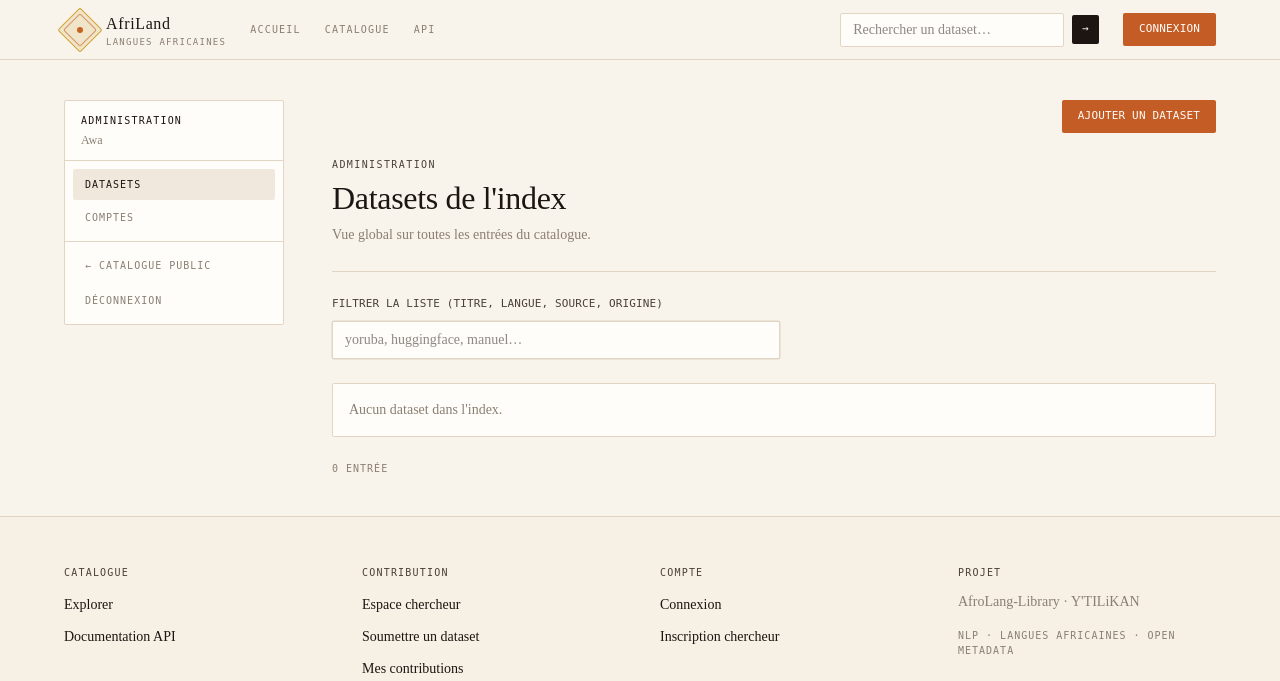
it: DatasetAdminPanel (Story 4.3) › ajoute un dataset sans inventer les métadonnées laissées vides
Step 1. Click the button "Ajouter un dataset" → (1139, 116), box [1062,100,1216,132]
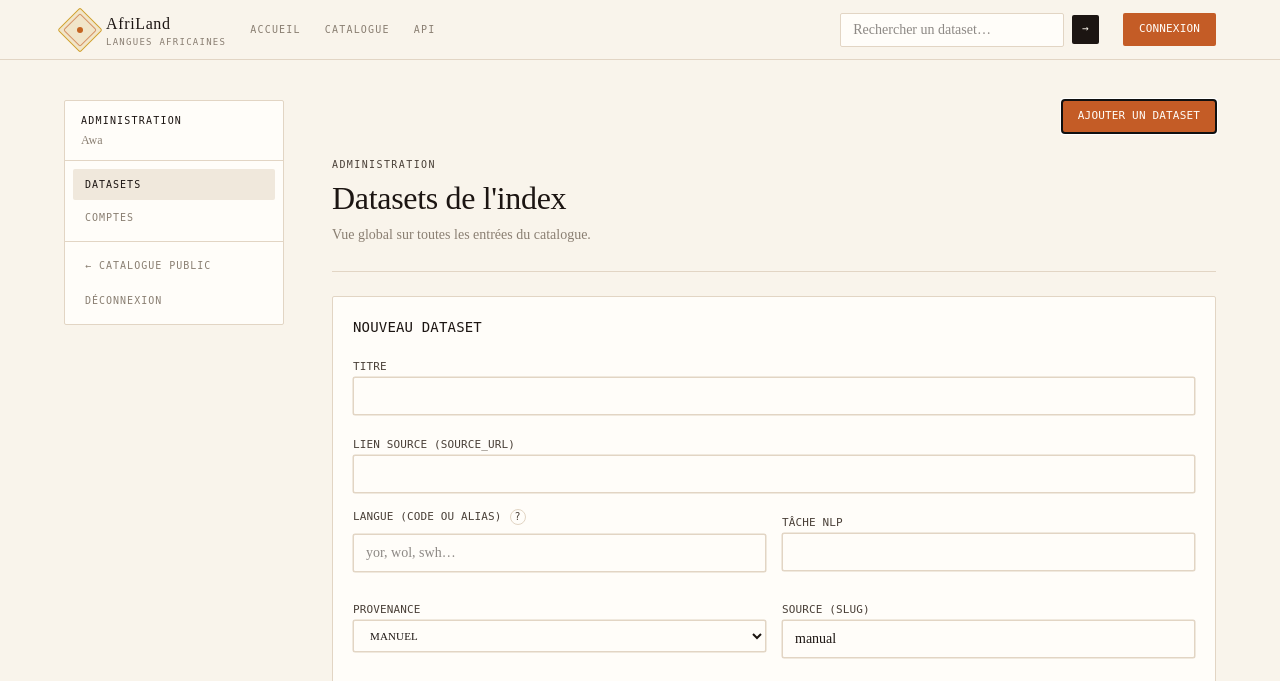
Step 2. Type "Corpus Ghomala" into the field labelled "Titre" → (774, 396), box [353,377,1195,415]
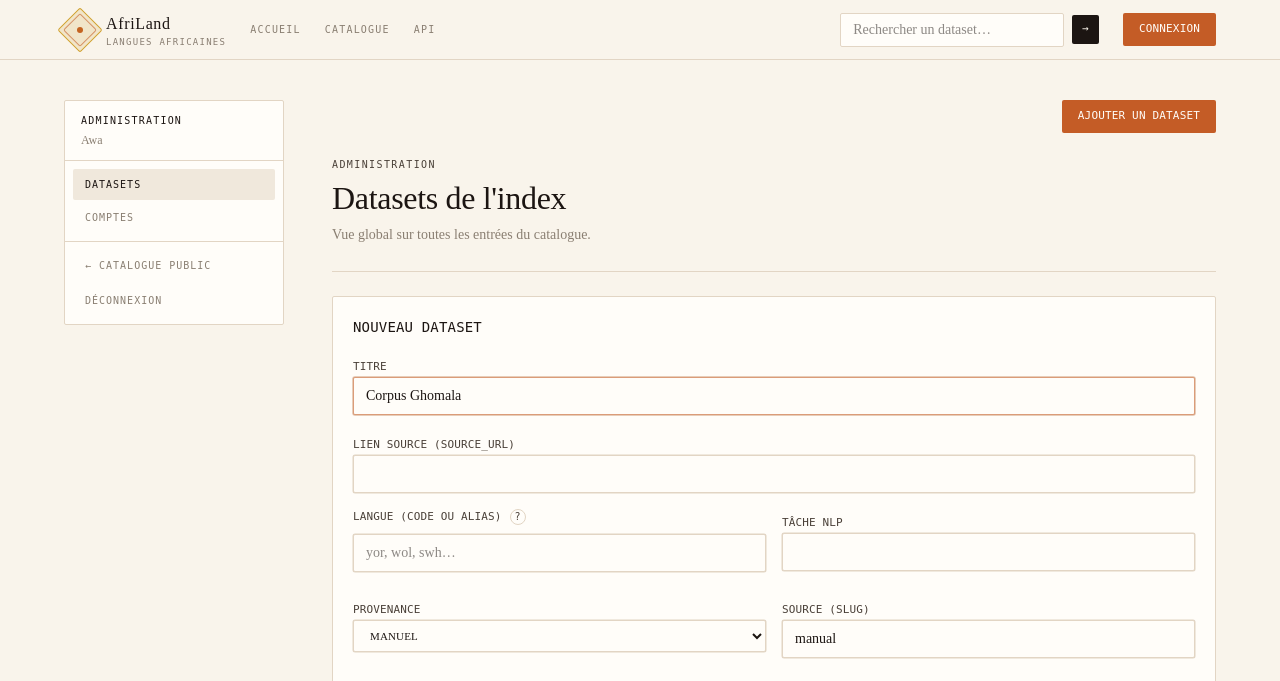
Step 3. Type "https://example.org/ghomala" into the field labelled "Lien source (source_url)" → (774, 474), box [353,455,1195,493]
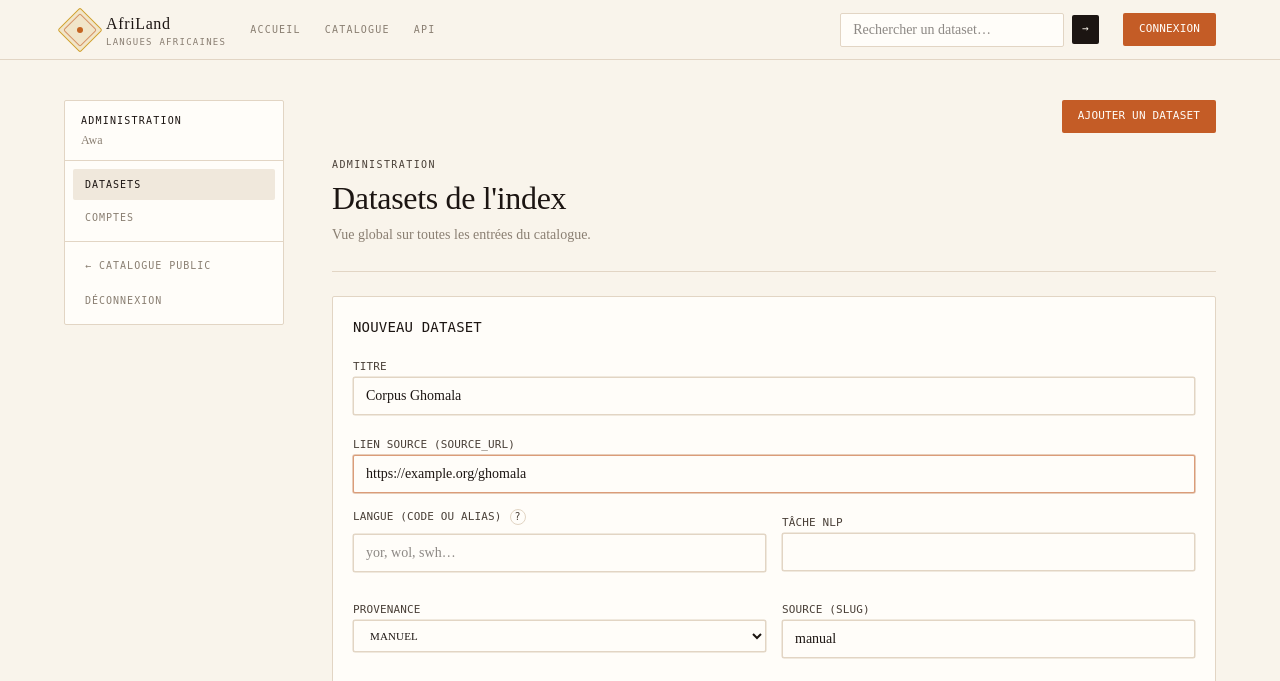
Step 4. Type "bbj" into the field labelled "Langue (code ou alias)" → (560, 552), box [353,534,766,572]
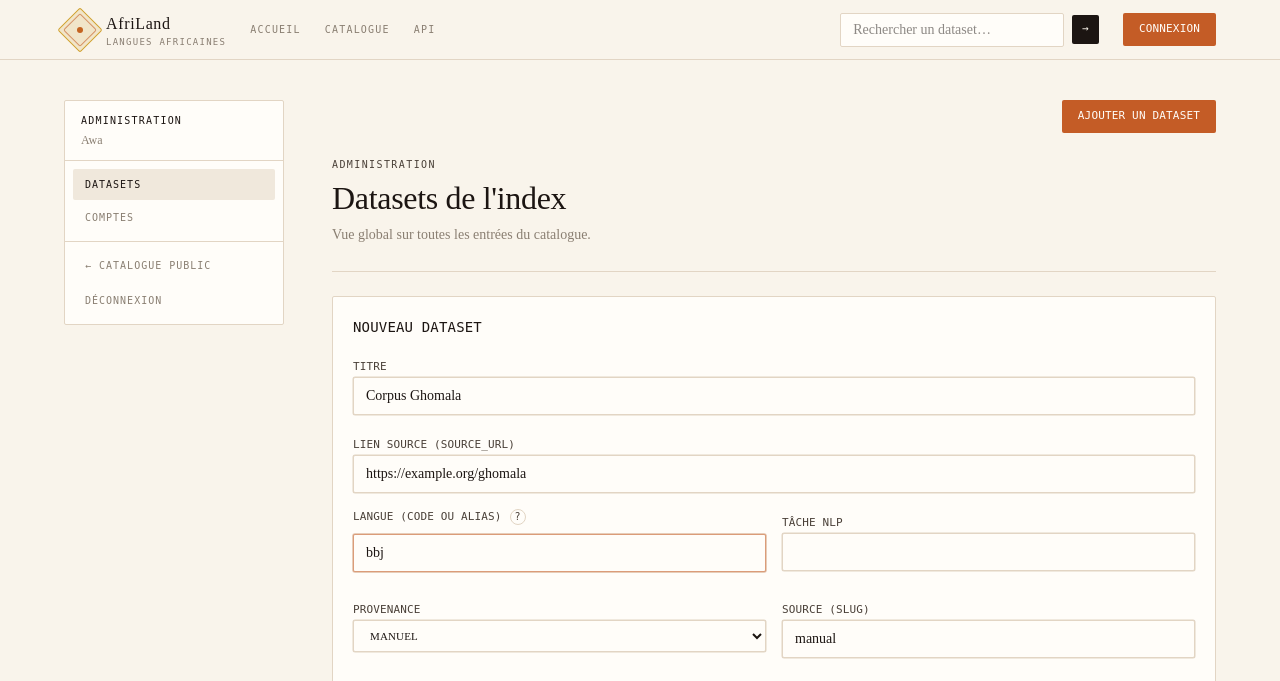
Step 5. Type "classification" into the field labelled "Tâche NLP" → (988, 552), box [782,533,1195,571]
(page scrolled)
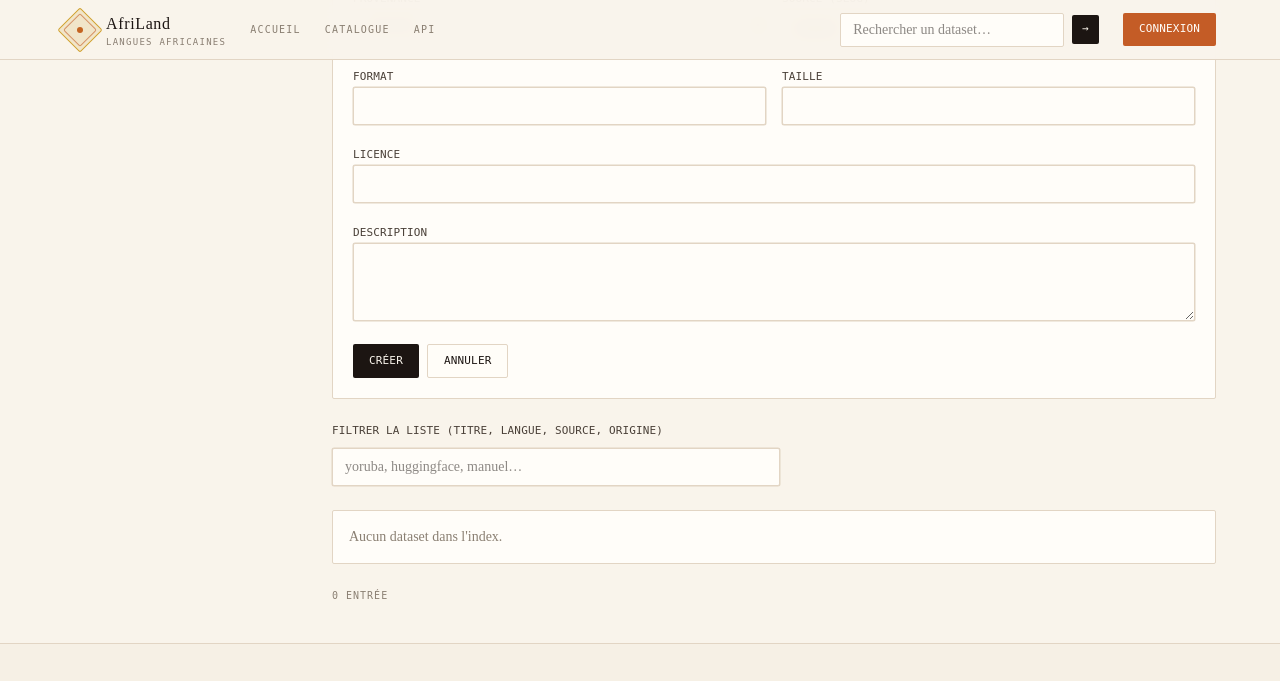
Step 6. Click the button "Créer" → (386, 361), box [353,344,419,378]
(page scrolled)
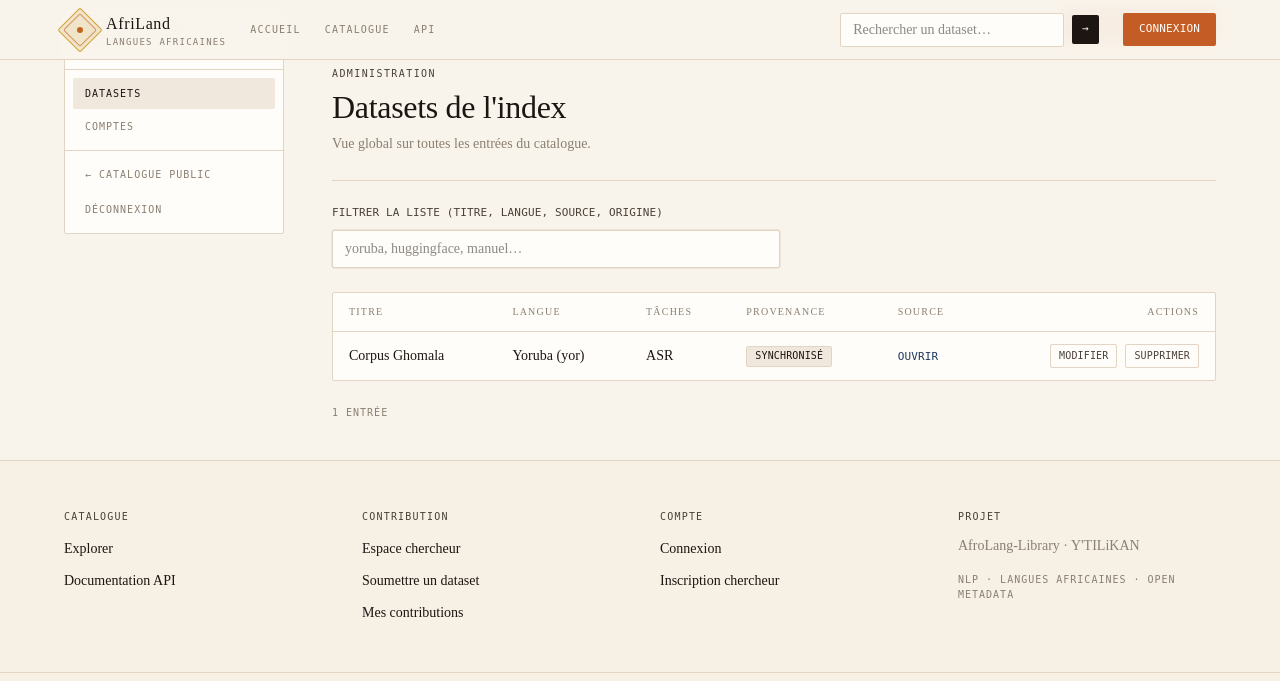
Expected: the text "Corpus Ghomala" is shown, [333,331,496,380]
